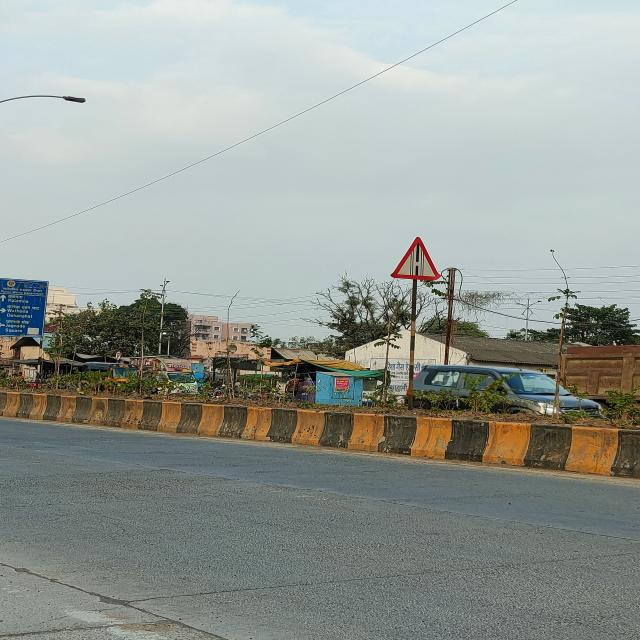ferry: (392, 238, 438, 281)
